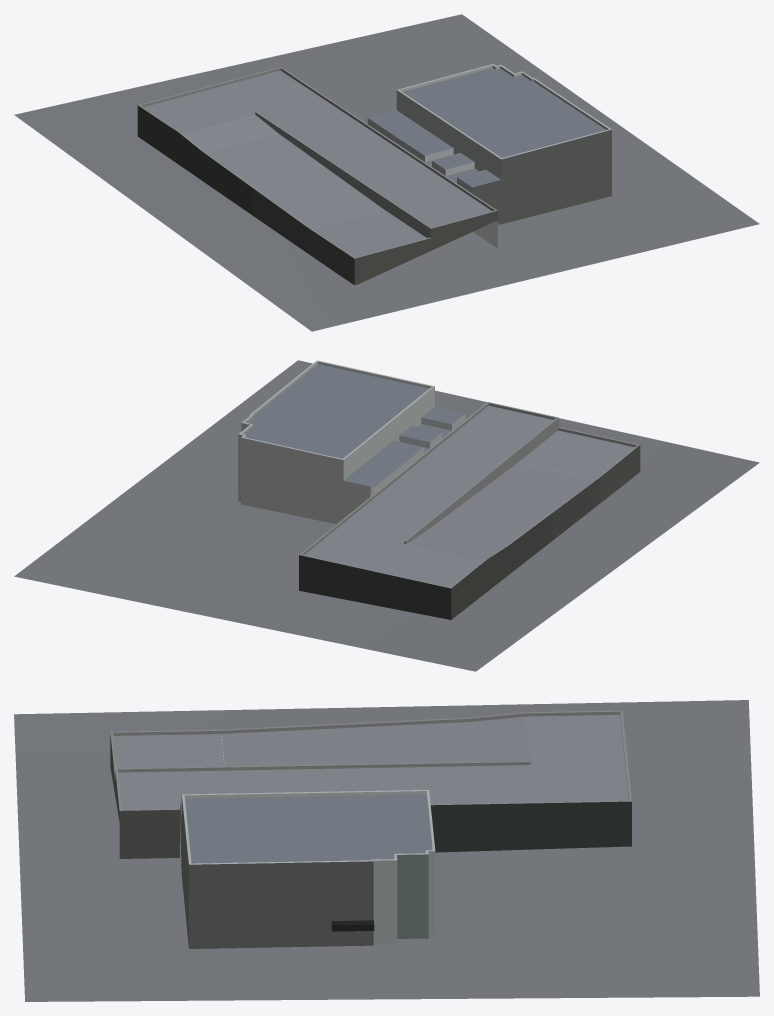
File: 633-chestnut-street.glb
3 views of the same model, one above another, from view 1: azimuth 30°, elevation 25°; view 2: azimuth 150°, elevation 25°; view 3: azimuth 270°, elevation 25° (orthographic). The views are drawn at different scales.
Visible parts, largest first — view 1: LOD0; view 2: LOD0; view 3: LOD0.
Part boxes in pixels (x1,y1,x2,y2): LOD0: [14, 14, 759, 331]; LOD0: [14, 360, 759, 671]; LOD0: [14, 700, 759, 1001].
Size of what is drawn, in the model's own units: 116 by 16.29 by 129.
2 materials, 2 textured.
